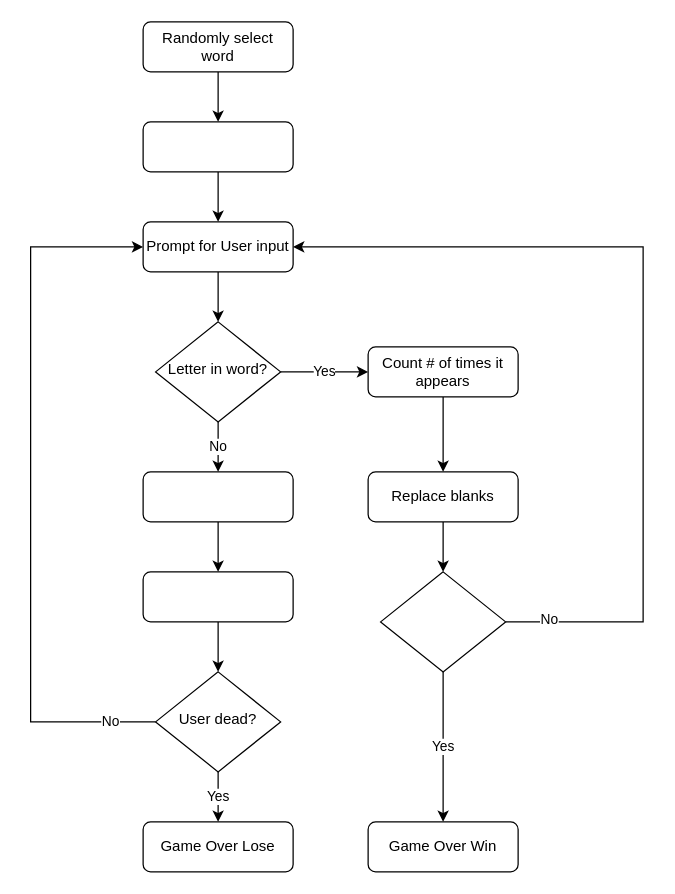
The diagram is 675 pixels wide and 894 high, and some of its shapes have lost their labels. The shapes that lost their labels are listed below. From the top down, each one's centre as x and y in pixels, then its label:
At point (217, 146): "Get length of word to display blanks".
At point (217, 496): "Decrease lives".
At point (217, 596): "Draw additional limb".
At point (442, 621): "Word complete?".
